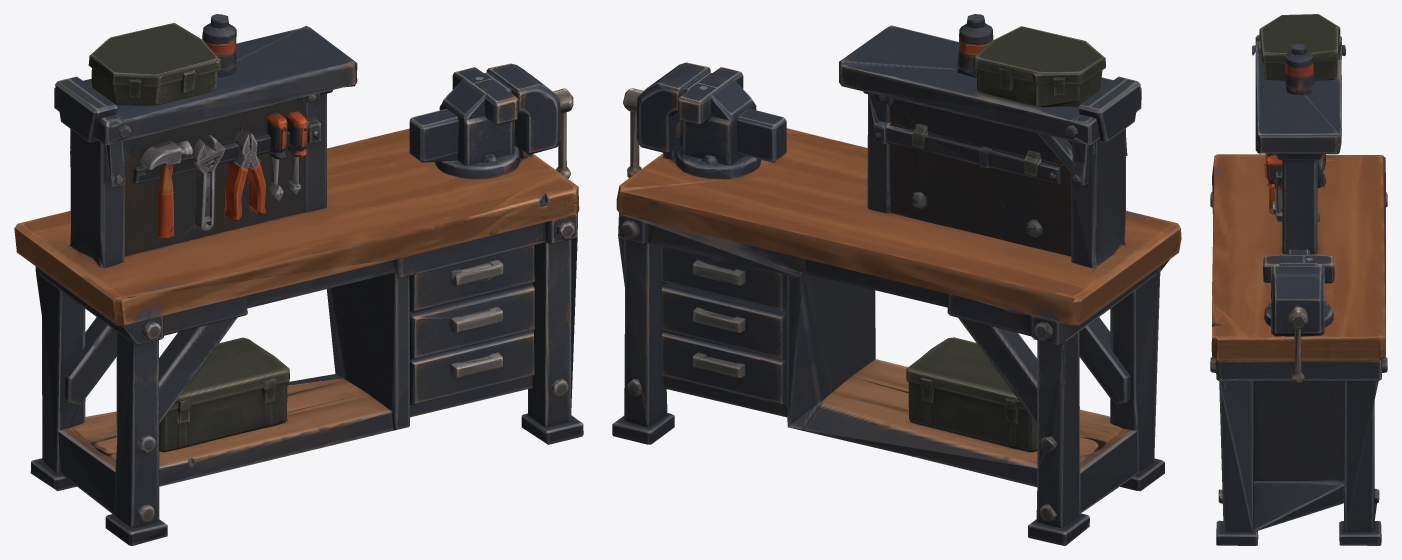
Rendered from workbench_iron.glb.
3 views of the same model, side by side, from view 1: azimuth 30°, elevation 25°; view 2: azimuth 150°, elevation 25°; view 3: azimuth 270°, elevation 25° (orthographic). The views are drawn at different scales.
Parts seen in each view (by area): view 1: Mesh_0; view 2: Mesh_0; view 3: Mesh_0.
Part boxes in pixels (box(x1,y1,x2,y2)): Mesh_0: box(14, 14, 583, 545); Mesh_0: box(612, 14, 1181, 545); Mesh_0: box(1210, 14, 1387, 545).
Size of what is drawn, in the model's own units: 1.81 by 1.57 by 0.6735.
1 material, 1 textured.
